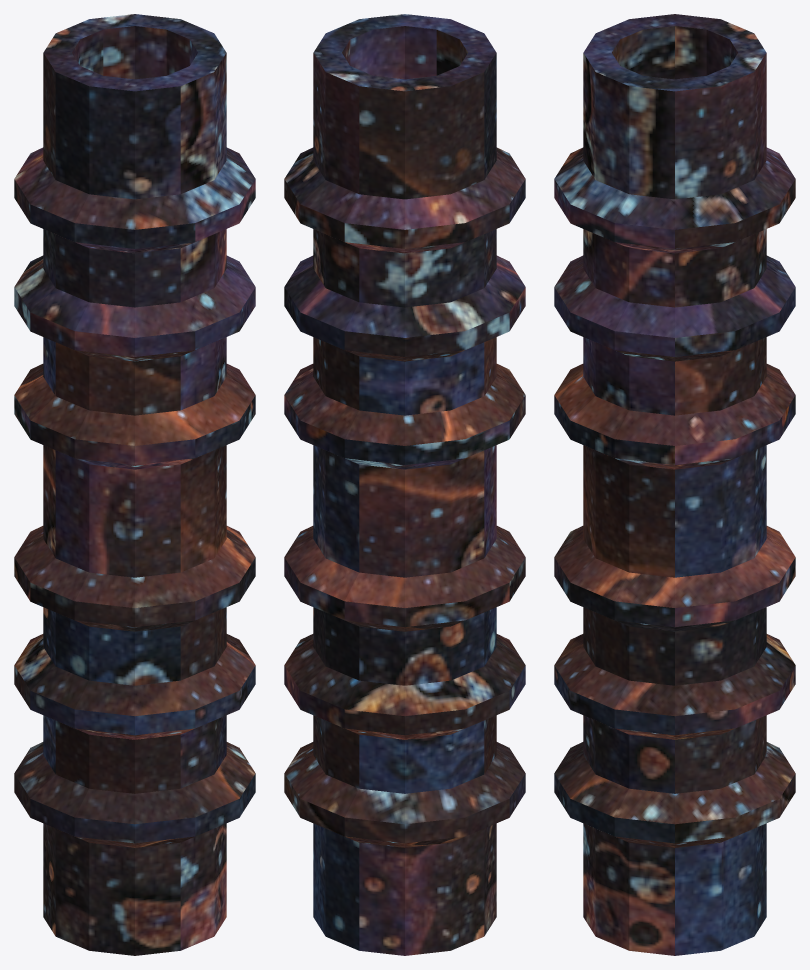
The model's file is SpaceDebris3.fbx.
The picture shows the model from 3 angles, left to right: view 1: azimuth 30°, elevation 25°; view 2: azimuth 150°, elevation 25°; view 3: azimuth 270°, elevation 25°; orthographic projection.
Visible parts, largest first — view 1: Space Debris3; view 2: Space Debris3; view 3: Space Debris3.
Boxes of the visible parts, left/top/right/bottom form: Space Debris3: left=14, top=14, right=255, bottom=955; Space Debris3: left=284, top=14, right=525, bottom=955; Space Debris3: left=554, top=14, right=795, bottom=955.
Bounding box in the file's own units: 264 × 1042 × 264.
